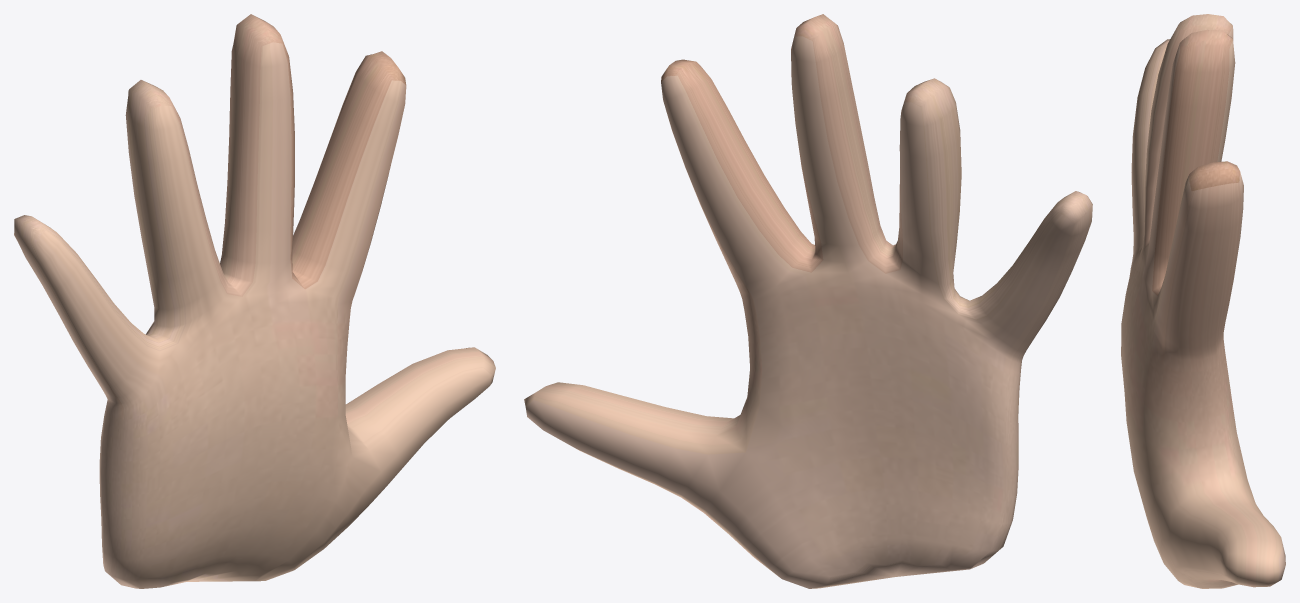
The model's file is Left_hand02.fbx.
The picture shows the model from 3 angles, left to right: view 1: azimuth 30°, elevation 25°; view 2: azimuth 150°, elevation 25°; view 3: azimuth 270°, elevation 25°; orthographic projection.
Visible parts, largest first — view 1: hand; view 2: hand; view 3: hand.
Part boxes in pixels (x1=…): hand: x1=14, y1=14, x2=495, y2=588; hand: x1=524, y1=14, x2=1092, y2=588; hand: x1=1121, y1=14, x2=1285, y2=588.
Bounding box in the file's own units: 436 × 452 × 122.
1 material, 1 textured.
